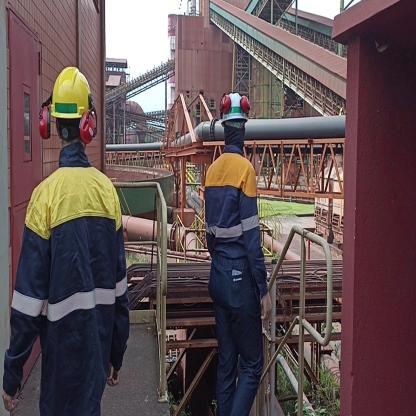Balaclava: (224, 118, 244, 152)
C_eletrica: (23, 173, 126, 397)
Capacete: (48, 63, 95, 119), (221, 91, 249, 120)
Operacional: (204, 154, 267, 298)
